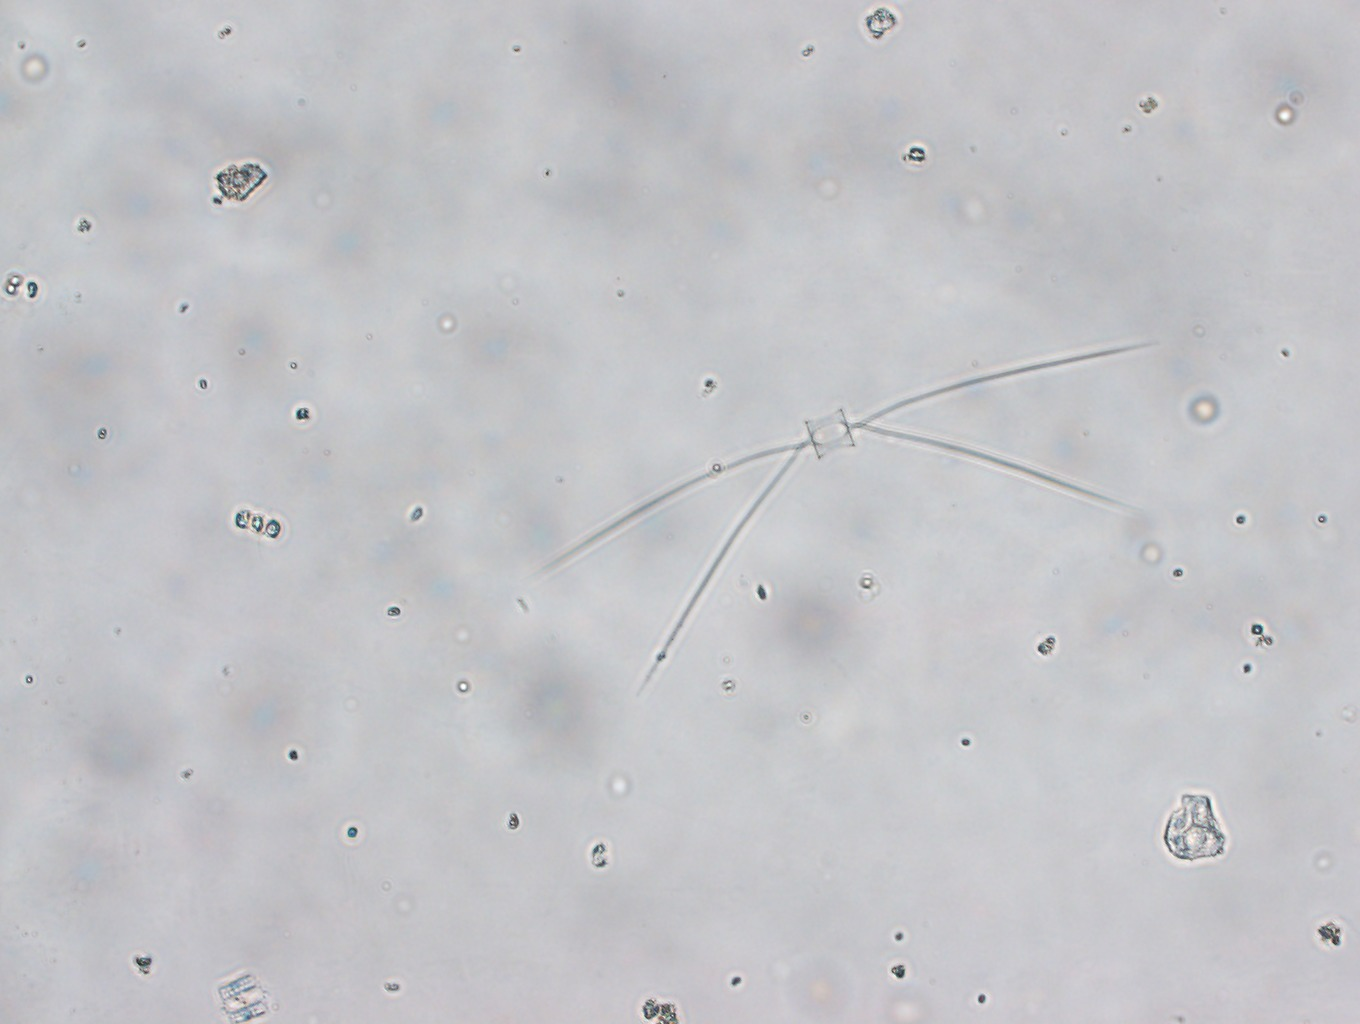chaetoceros: (531, 342, 1186, 687)
